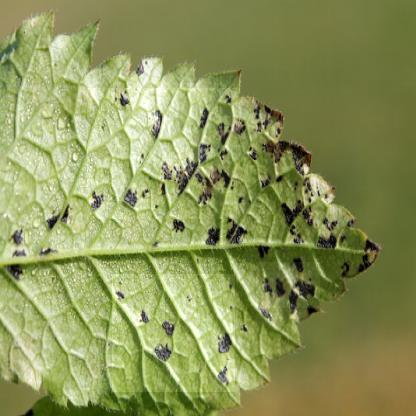black-spot: (88, 88, 238, 219), (112, 274, 235, 392), (270, 193, 328, 247), (256, 262, 320, 308)
